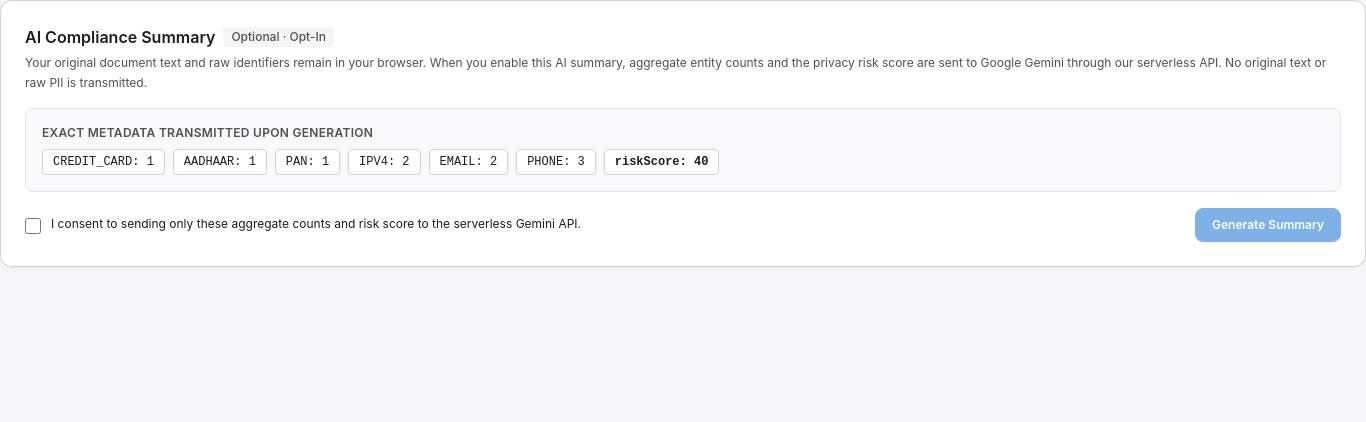
Test case: AiComplianceSummary component › handles configuration, network, and API errors cleanly and allows retry
The image size is (1366, 422).
Click the checkbox: {"x": 33, "y": 226} x1=25 y1=218 x2=41 y2=234
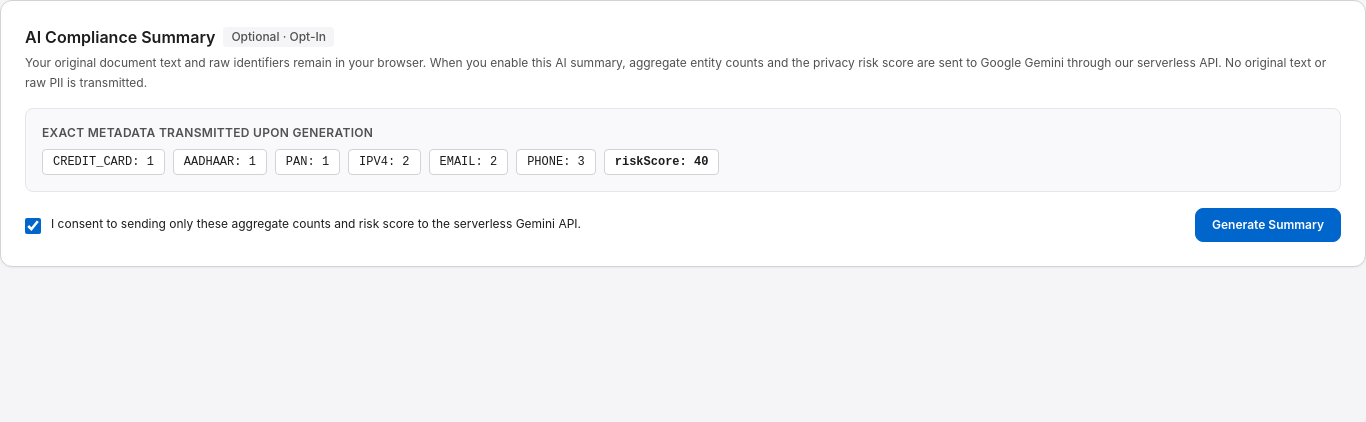
Click the button "Generate Summary": {"x": 1268, "y": 225} x1=1195 y1=208 x2=1341 y2=242
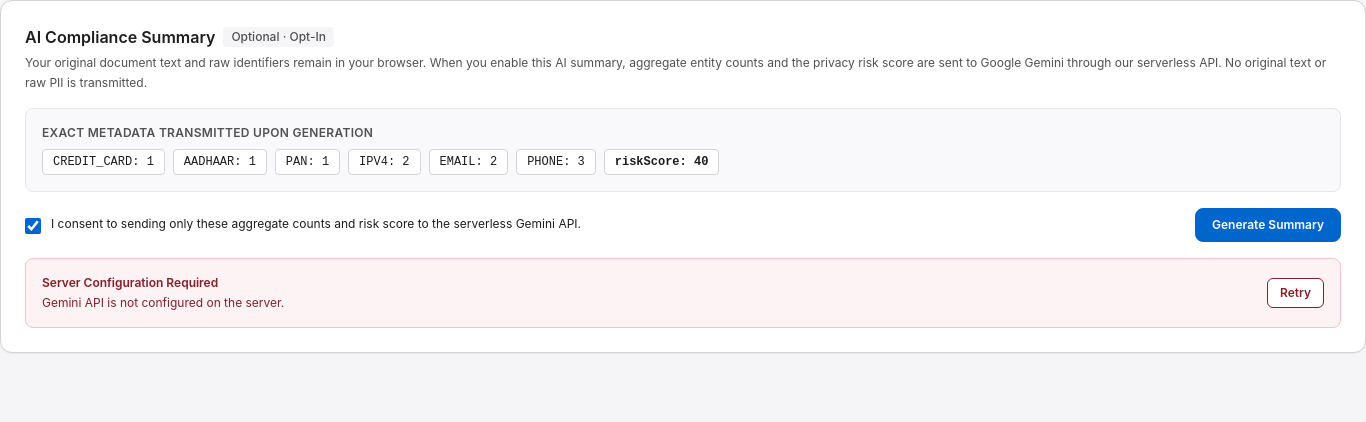
Now the text "Server Configuration Required" is shown, box x1=42 y1=275 x2=218 y2=290
Click the button "Retry": {"x": 1296, "y": 293} x1=1267 y1=278 x2=1324 y2=308
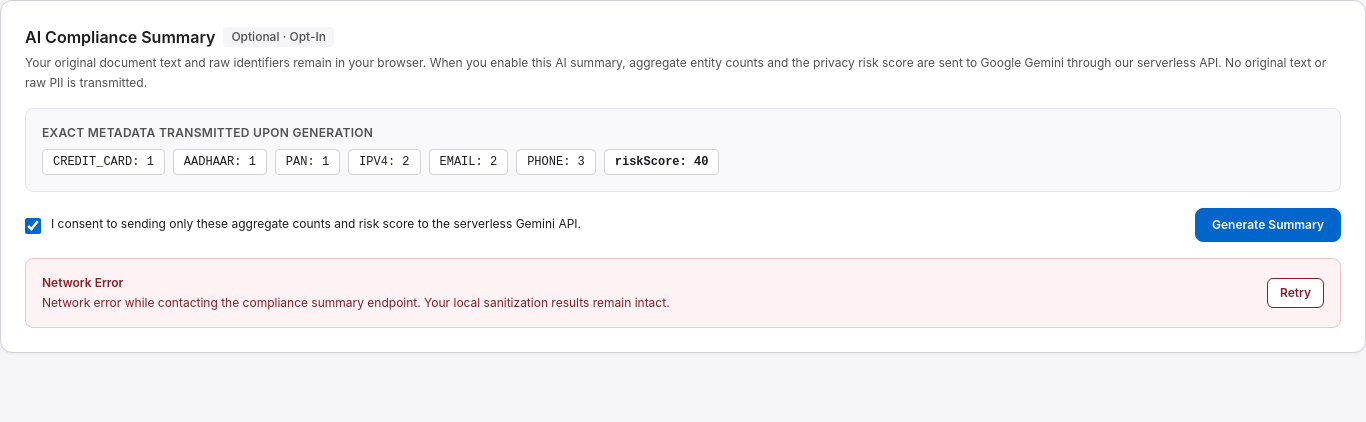
Now the text "Network Error" is shown, box x1=42 y1=275 x2=123 y2=290
Click the button "Retry": {"x": 1296, "y": 293} x1=1267 y1=278 x2=1324 y2=308
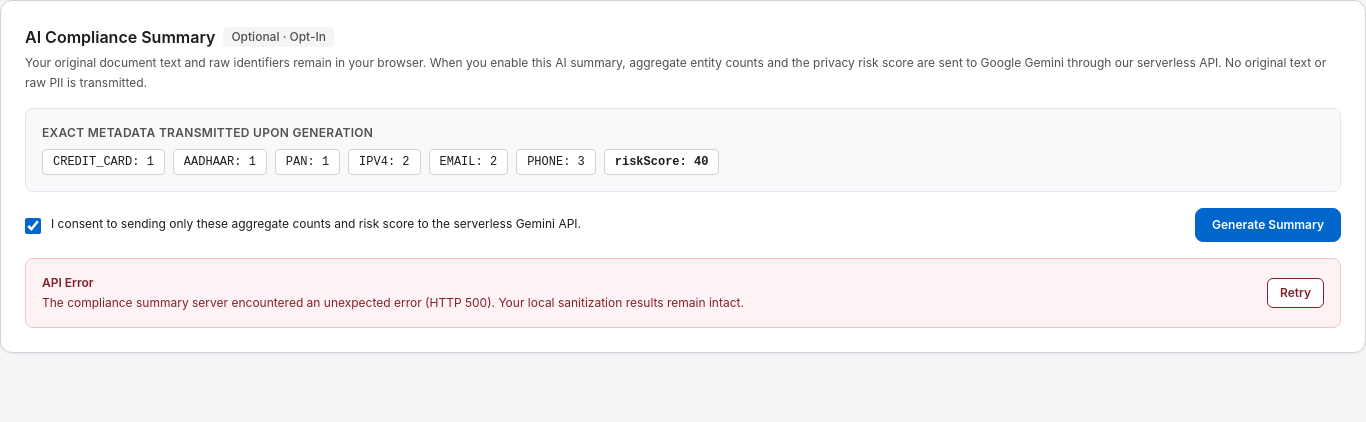
Expected: the message does not show "<html>", x1=25 y1=258 x2=1341 y2=328
Now the message shows "HTTP 500", box x1=42 y1=295 x2=744 y2=310
Click the button "Retry": {"x": 1296, "y": 293} x1=1267 y1=278 x2=1324 y2=308
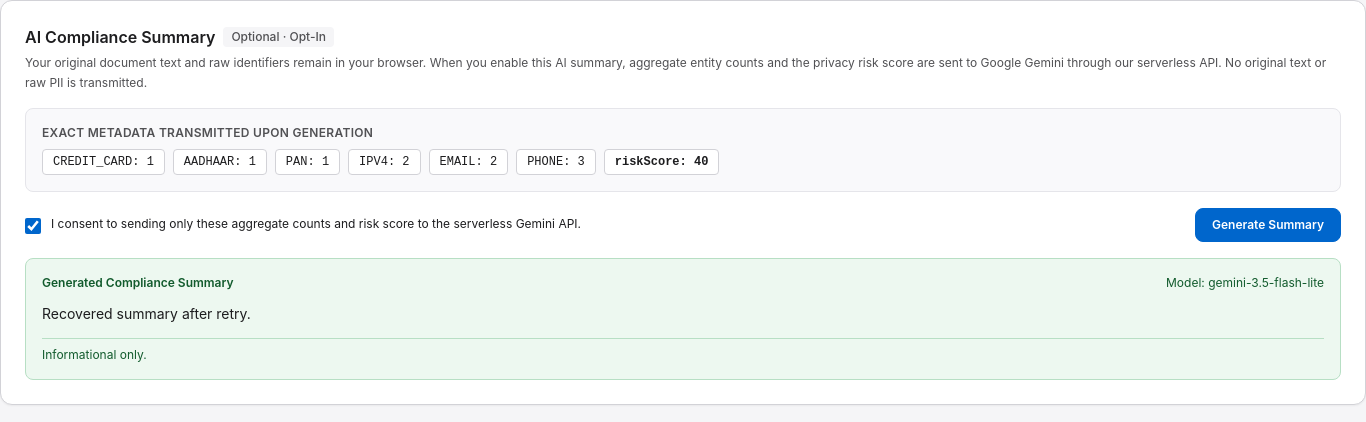
Now the text "Recovered summary after retry." is shown, box x1=42 y1=305 x2=251 y2=322
